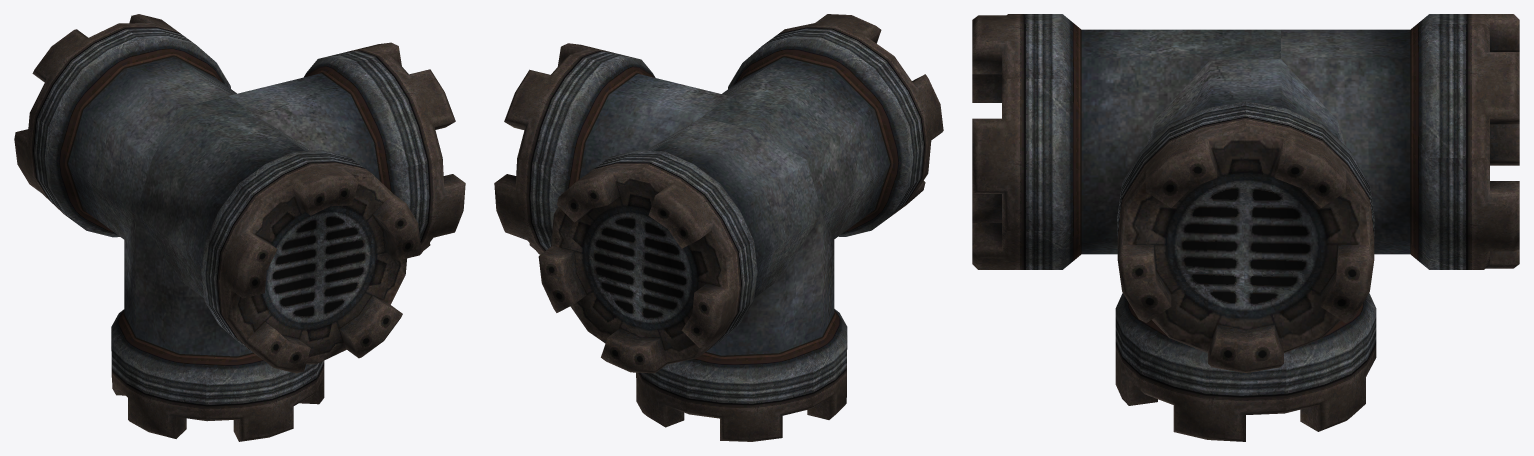
The model's file is tech_brown_4way.dae.
The picture shows the model from 3 angles, left to right: view 1: azimuth 30°, elevation 25°; view 2: azimuth 150°, elevation 25°; view 3: azimuth 270°, elevation 25°; orthographic projection. The views are drawn at different scales.
Parts seen in each view (by area): view 1: polySurface798; view 2: polySurface798; view 3: polySurface798.
Boxes of the visible parts, <box> form: polySurface798: <box>14,14,465,441</box>; polySurface798: <box>494,14,943,441</box>; polySurface798: <box>972,14,1519,441</box>.
Size of the model in its own units: 0.7778 by 0.7804 by 1.06.
1 material, 1 textured.
